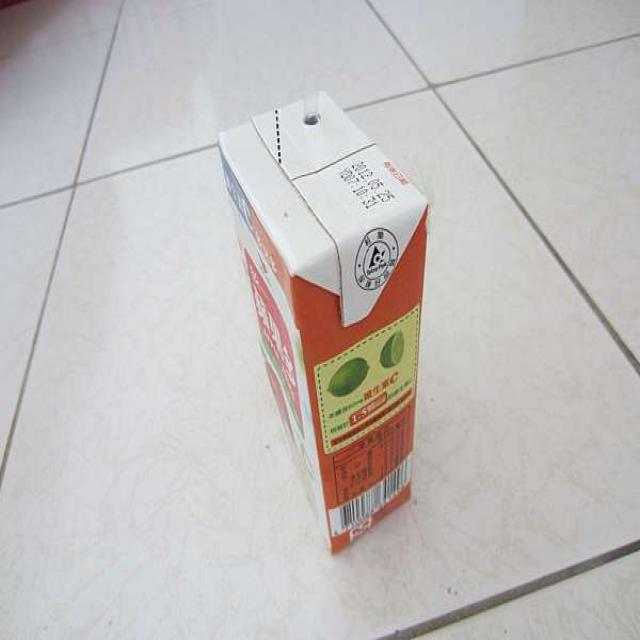cardboard: (206, 79, 430, 560)
